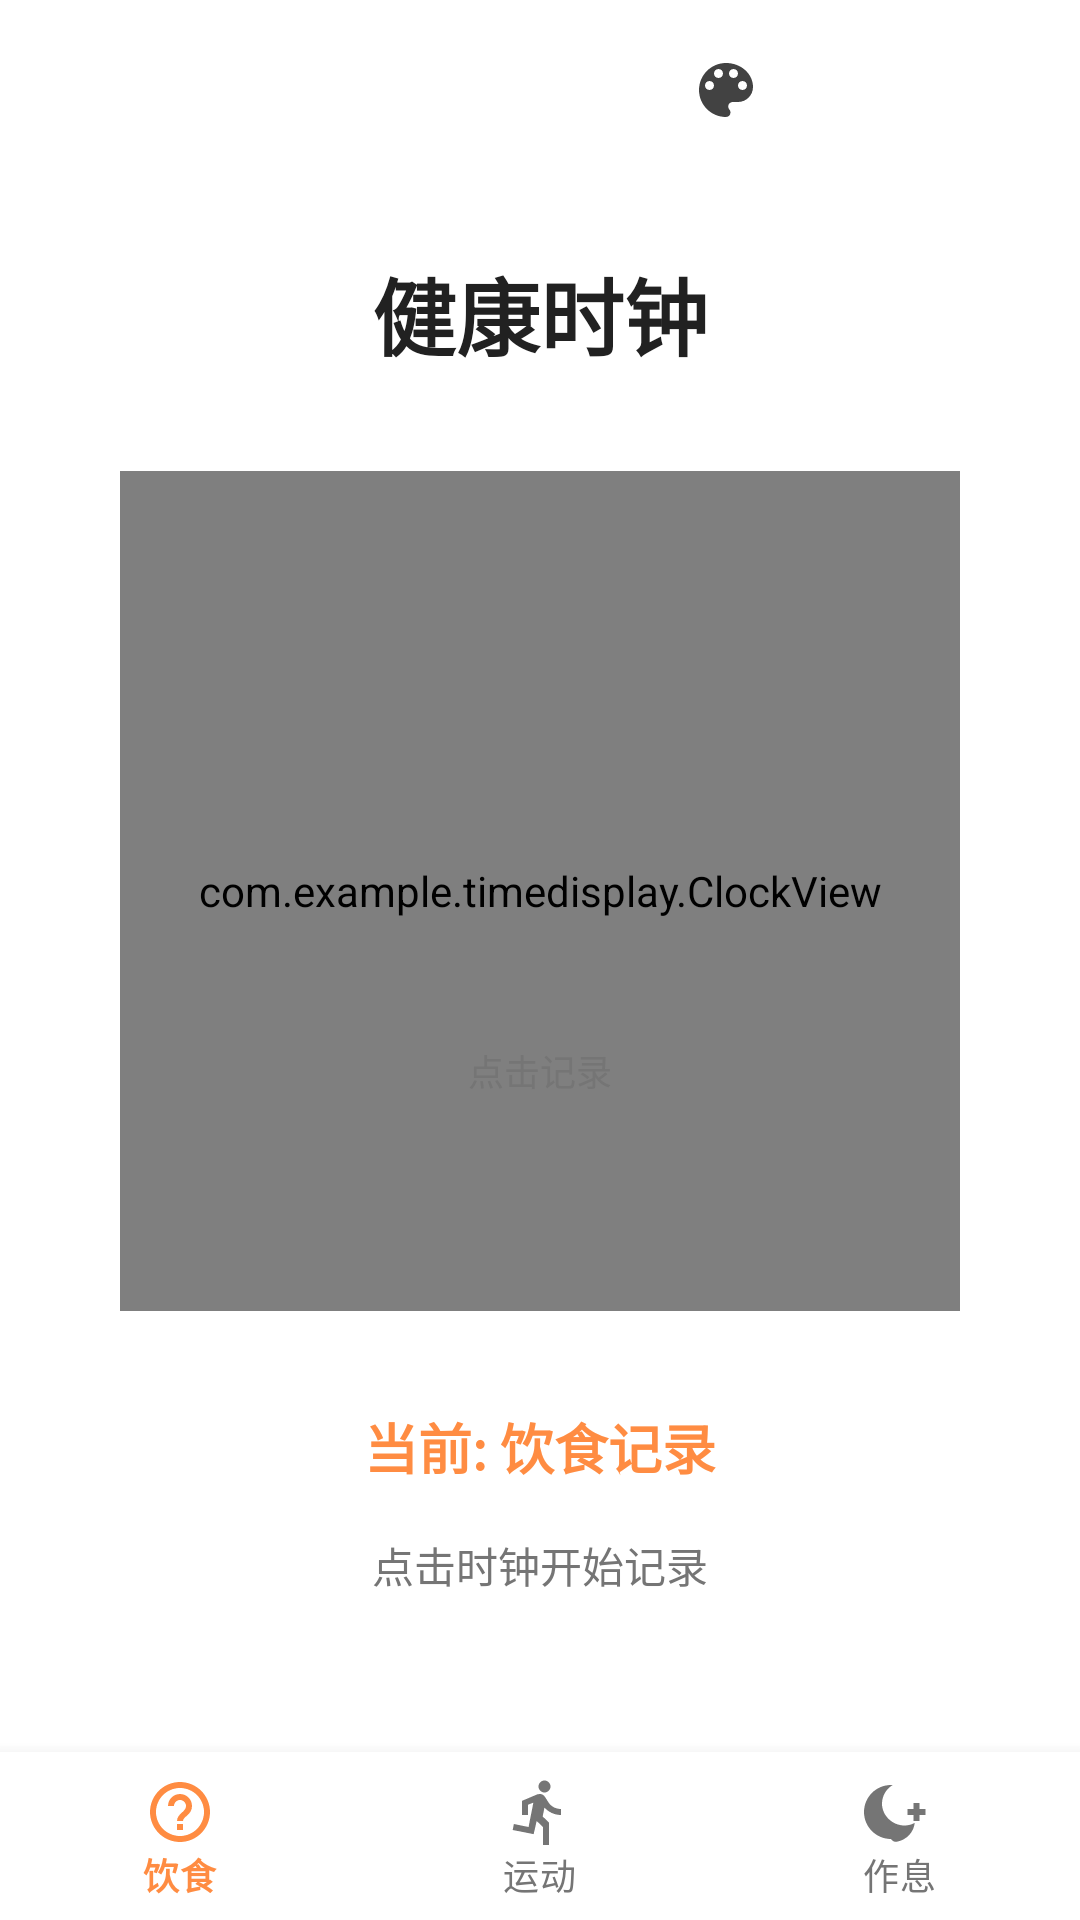

Icon click points for this 1080×1920 phone screenshot, format (x=x, y=y):
切换主题: (x=726, y=90)
